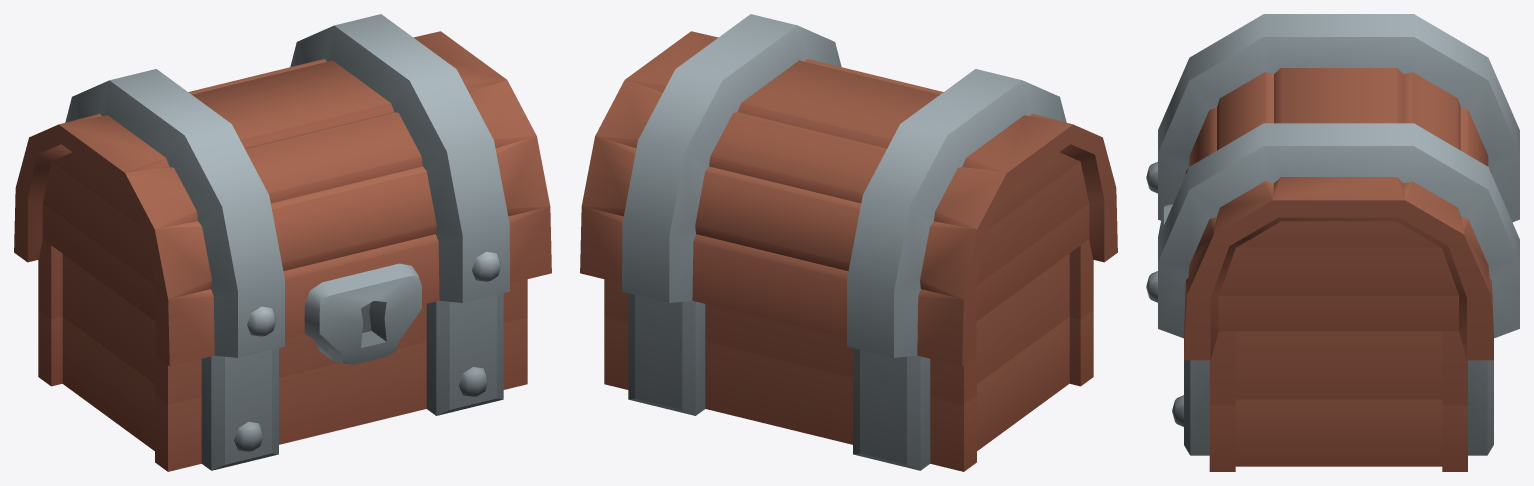
File: chest.glb
The picture shows the model from 3 angles, left to right: view 1: azimuth 30°, elevation 25°; view 2: azimuth 150°, elevation 25°; view 3: azimuth 270°, elevation 25°; orthographic projection.
Parts seen in each view (by area): view 1: chest; view 2: chest; view 3: chest.
Part boxes in pixels (left/top/right/bottom): chest: left=14, top=14, right=551, bottom=471; chest: left=580, top=14, right=1117, bottom=471; chest: left=1146, top=14, right=1519, bottom=471.
Size of the model in its own units: 1.7 by 1.3 by 1.45.
1 material, 1 textured.
